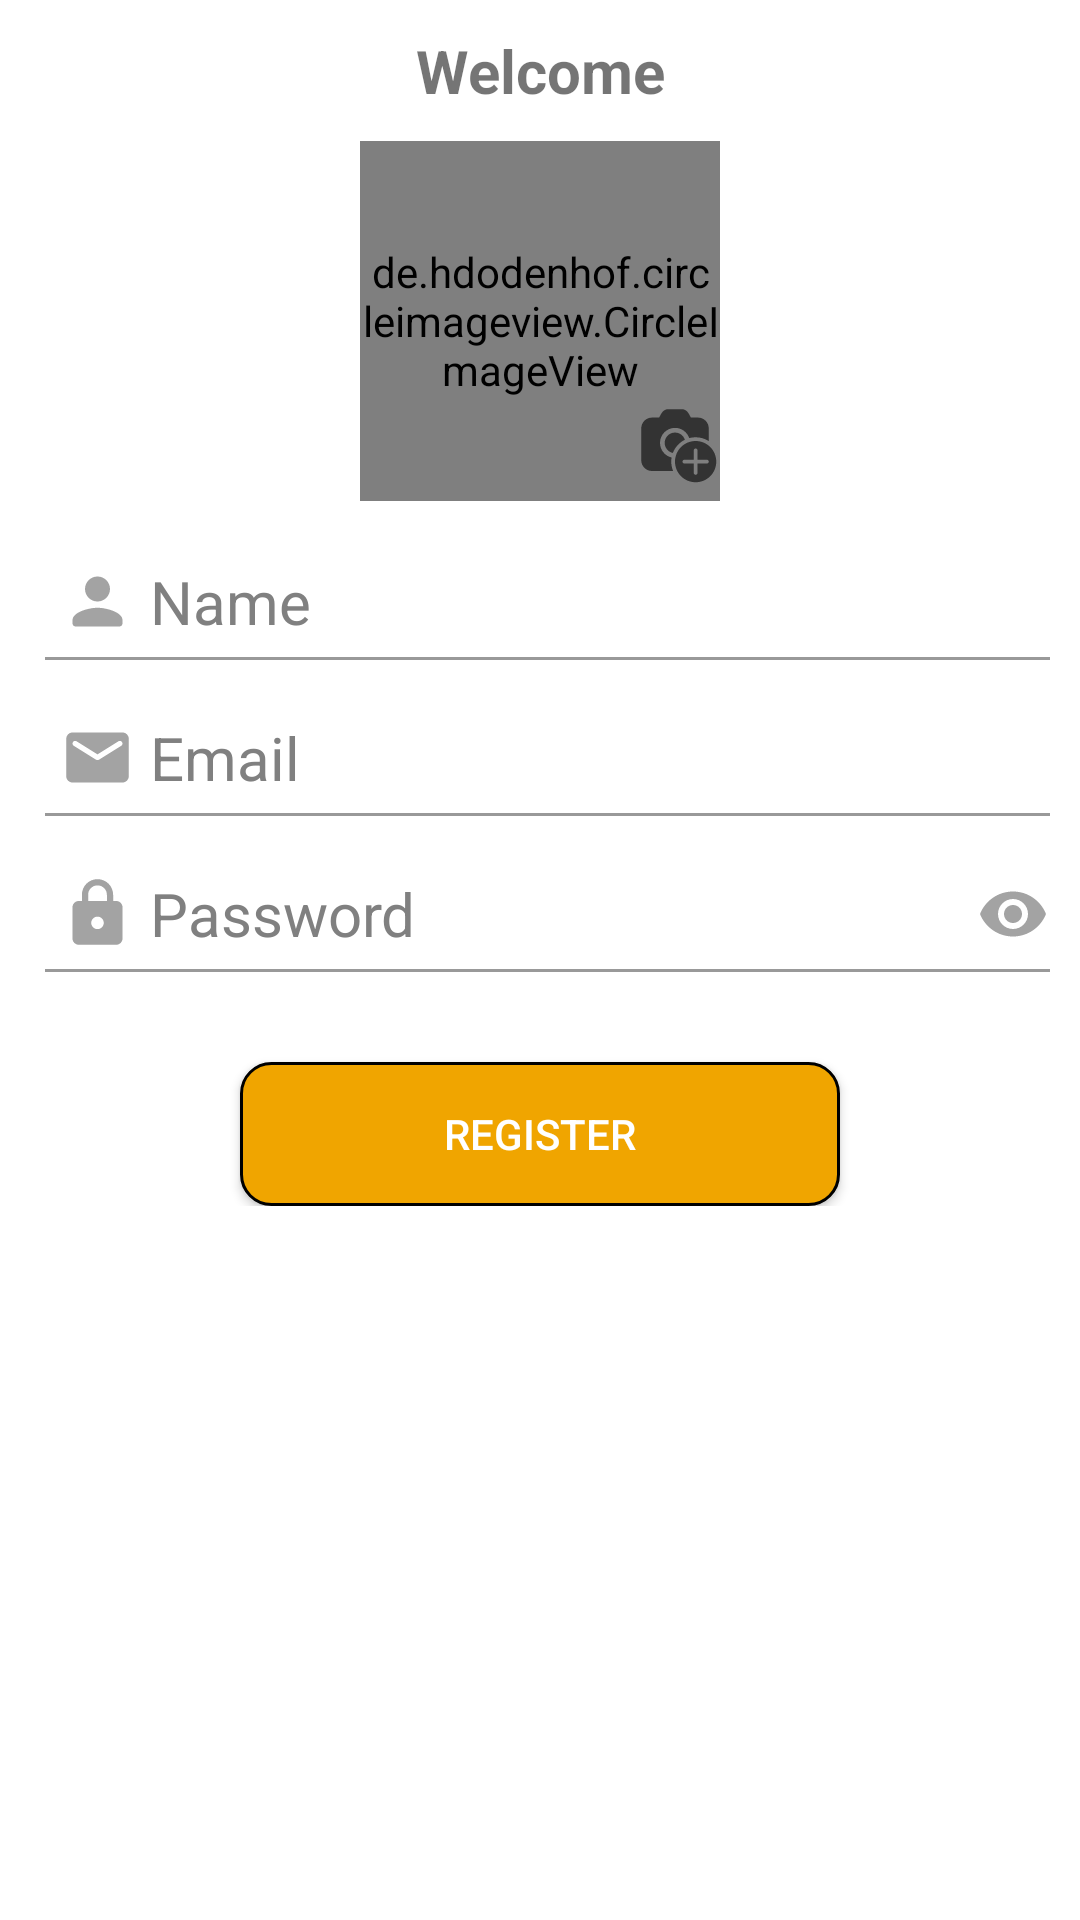

Where to tap for icons on this 1080px x 1920px app screen, as (x,y):
camera add: (678,445)
lock: (97,912)
person: (97,601)
visibility: (1013,914)
